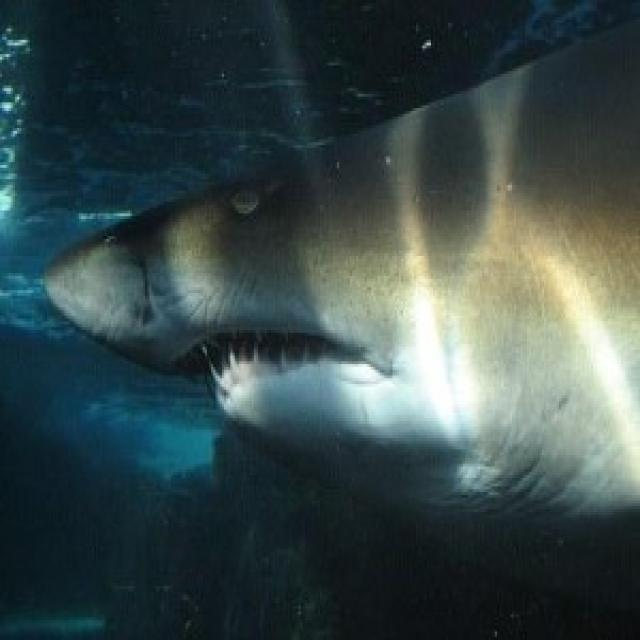Shark: (33, 26, 640, 555)
